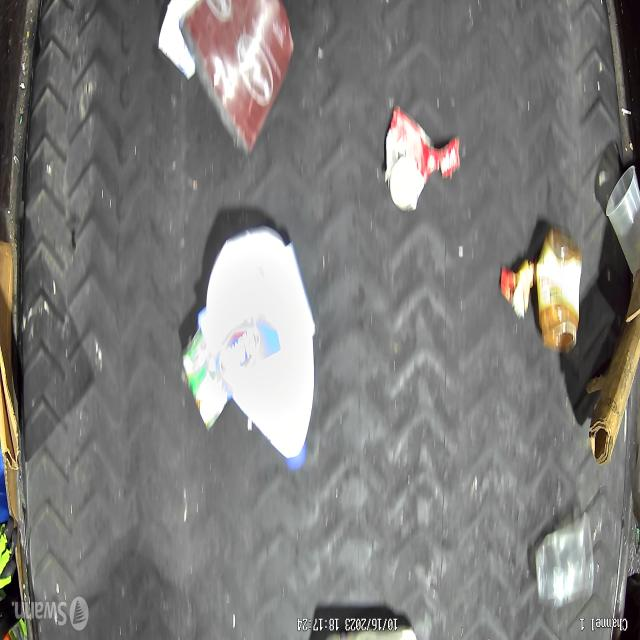can: (534, 228, 582, 352), (384, 102, 433, 214), (180, 325, 230, 432)
milk_jug: (197, 226, 316, 474)
plastic_bottle: (534, 511, 595, 610)
